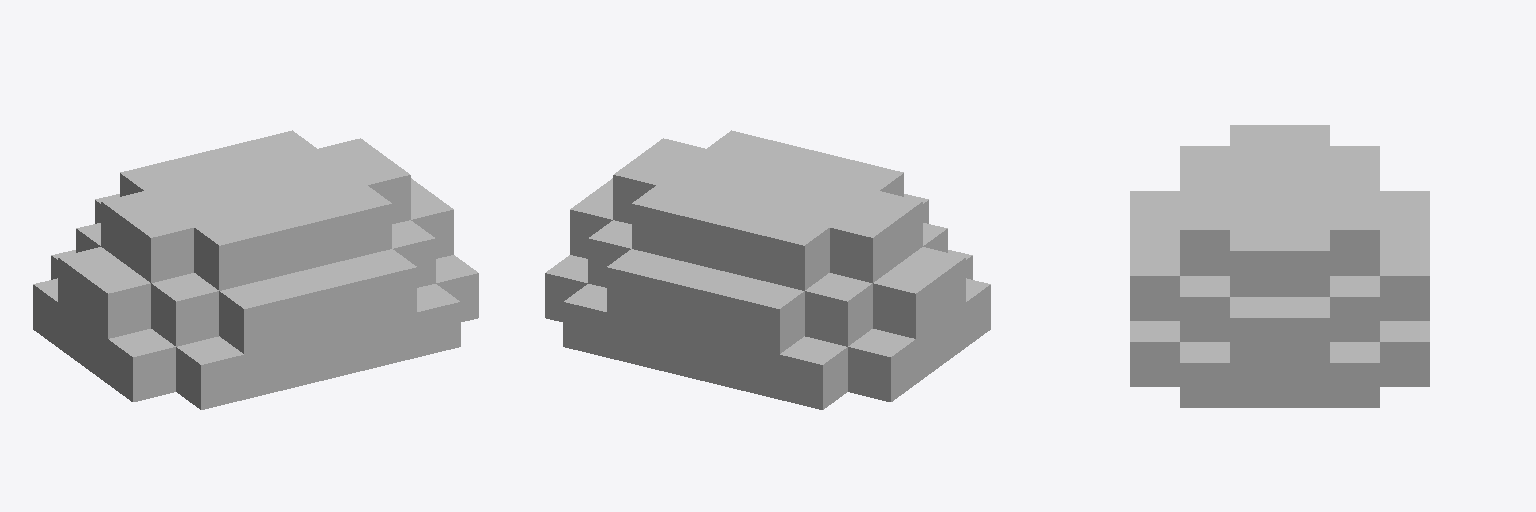
Rendered from arbusto.obj.
3 views of the same model, side by side, from view 1: azimuth 30°, elevation 25°; view 2: azimuth 150°, elevation 25°; view 3: azimuth 270°, elevation 25° (orthographic).
Visible parts, largest first — view 1: object 1; view 2: object 1; view 3: object 1.
Part boxes in pixels (left/top/right/bottom): object 1: left=33, top=130, right=478, bottom=409; object 1: left=545, top=130, right=990, bottom=409; object 1: left=1130, top=125, right=1429, bottom=407.
Size of the model in its own units: 0.8 by 0.3 by 0.6.